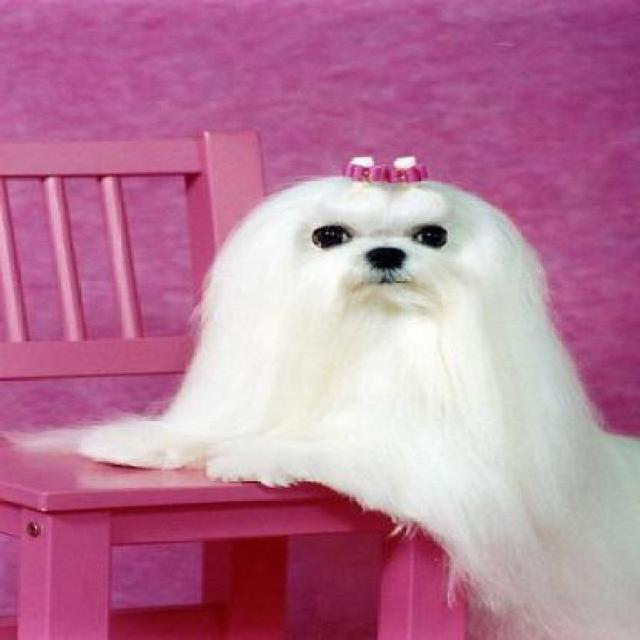Dog: (46, 163, 632, 639)
